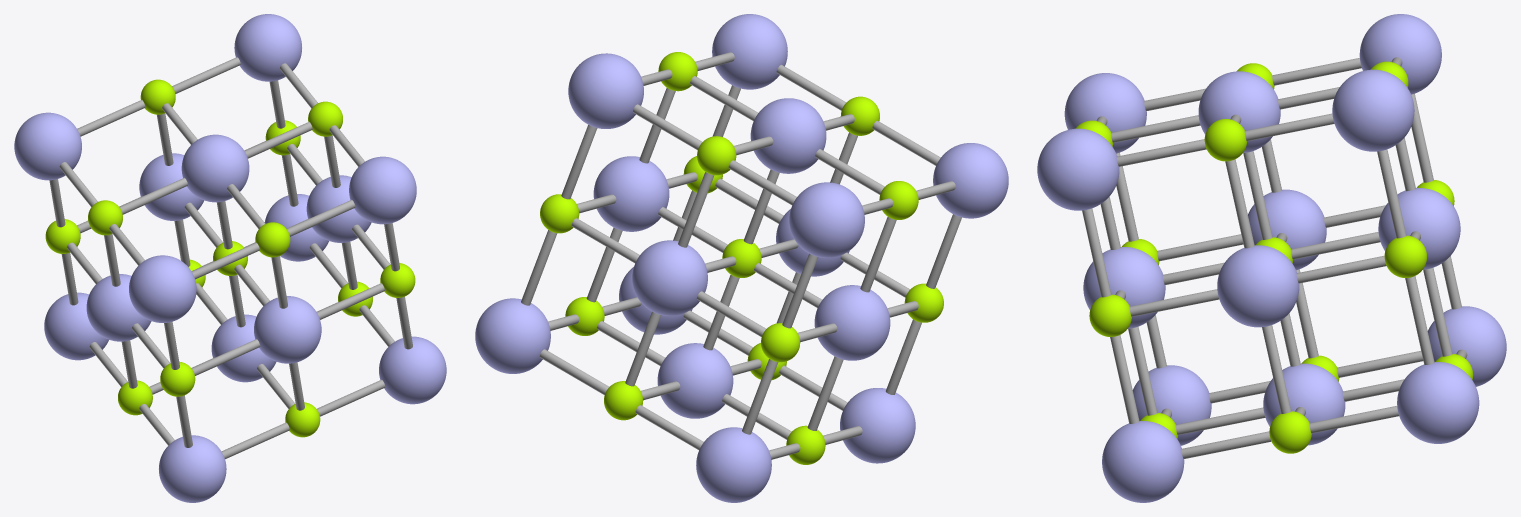
The model's file is NaCl.glb.
The picture shows the model from 3 angles, left to right: view 1: azimuth 30°, elevation 25°; view 2: azimuth 150°, elevation 25°; view 3: azimuth 270°, elevation 25°; orthographic projection. The views are drawn at different scales.
Visible parts, largest first — view 1: CMAtom_8, CMAtom_16, CMAtom_0, CMAtom_22, CMAtom_1, CMAtom_9, CMAtom_12, CMAtom_26, CMAtom_18, CMAtom_3, CMAtom_19, CMAtom_2 (+42 smaller); view 2: CMAtom_0, CMAtom_18, CMAtom_12, CMAtom_24, CMAtom_2, CMAtom_8, CMAtom_3, CMAtom_1, CMAtom_22, CMAtom_16, CMAtom_13, CMAtom_19 (+45 smaller); view 3: CMAtom_12, CMAtom_16, CMAtom_24, CMAtom_13, CMAtom_26, CMAtom_0, CMAtom_1, CMAtom_8, CMAtom_2, CMAtom_18, CMAtom_19, CMAtom_9 (+42 smaller).
Part boxes in pixels (x1,y1,x2,y2): CMAtom_8: [129, 255, 196, 322]; CMAtom_16: [349, 156, 416, 224]; CMAtom_0: [14, 112, 81, 180]; CMAtom_22: [159, 435, 226, 502]; CMAtom_1: [181, 134, 249, 202]; CMAtom_9: [254, 296, 321, 363]; CMAtom_12: [234, 14, 301, 81]; CMAtom_26: [379, 336, 446, 404]; CMAtom_18: [44, 292, 108, 360]; CMAtom_3: [86, 274, 151, 341]; CMAtom_19: [211, 314, 276, 382]; CMAtom_2: [139, 153, 203, 220]; CMAtom_0: [789, 182, 864, 257]; CMAtom_18: [696, 427, 771, 502]; CMAtom_12: [568, 53, 643, 128]; CMAtom_24: [475, 298, 550, 373]; CMAtom_2: [632, 240, 707, 315]; CMAtom_8: [933, 143, 1008, 218]; CMAtom_3: [814, 285, 890, 360]; CMAtom_1: [750, 98, 826, 173]; CMAtom_22: [840, 388, 915, 463]; CMAtom_16: [712, 14, 787, 89]; CMAtom_13: [593, 156, 669, 231]; CMAtom_19: [657, 343, 733, 418]; CMAtom_12: [1332, 69, 1414, 151]; CMAtom_16: [1037, 128, 1119, 210]; CMAtom_24: [1397, 362, 1479, 443]; CMAtom_13: [1217, 245, 1299, 327]; CMAtom_26: [1102, 421, 1184, 502]; CMAtom_0: [1359, 14, 1441, 94]; CMAtom_1: [1198, 71, 1280, 153]; CMAtom_8: [1064, 73, 1146, 153]; CMAtom_2: [1378, 188, 1460, 269]; CMAtom_18: [1427, 306, 1506, 386]; CMAtom_19: [1263, 363, 1345, 445]; CMAtom_9: [1083, 247, 1165, 328].
Bounding box in the file's own units: 8.62 × 9.53 × 8.73.
